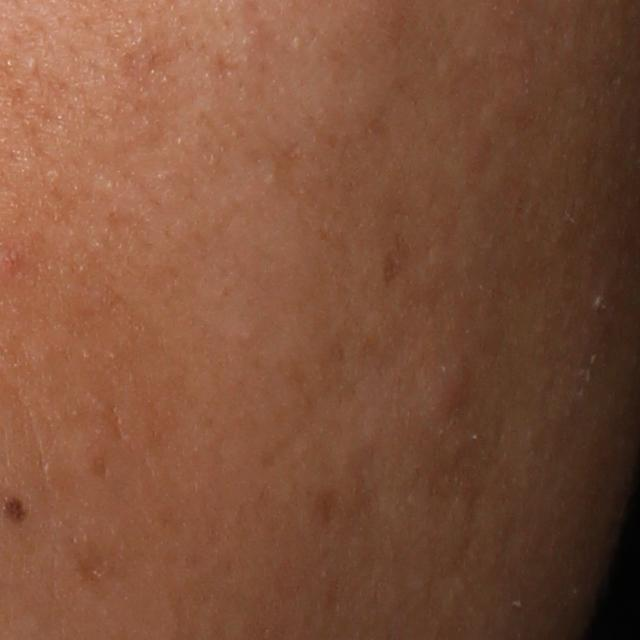nevus: (0, 496, 31, 529)
papule: (425, 348, 482, 430)
